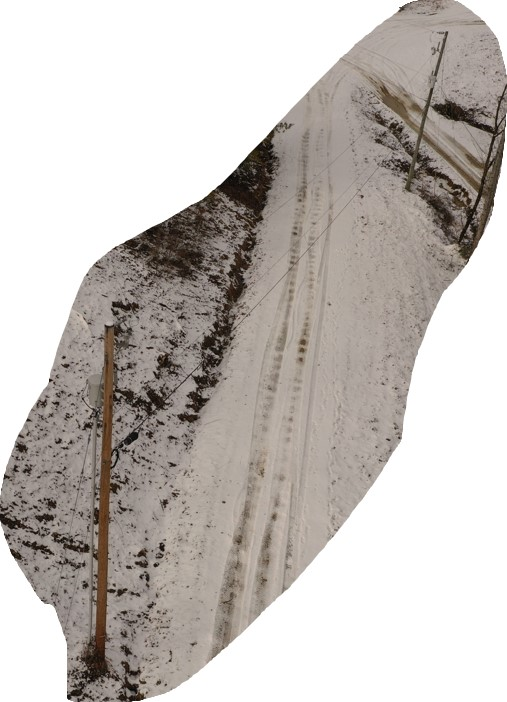pole: (71, 297, 154, 686), (394, 20, 462, 199)
